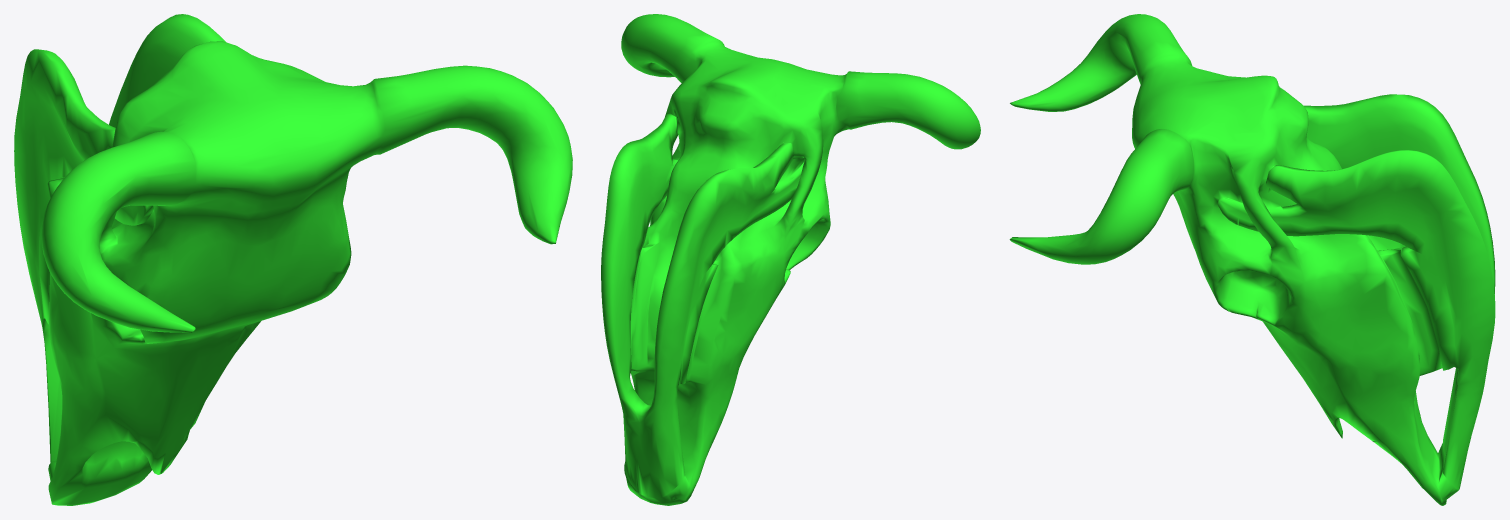
File: Cowskull.obj
3 views of the same model, side by side, from view 1: azimuth 30°, elevation 25°; view 2: azimuth 150°, elevation 25°; view 3: azimuth 270°, elevation 25° (orthographic). The views are drawn at different scales.
Parts seen in each view (by area): view 1: Cowskull; view 2: Cowskull; view 3: Cowskull.
Part boxes in pixels (x1=…): Cowskull: x1=14, y1=14, x2=572, y2=505; Cowskull: x1=601, y1=14, x2=980, y2=505; Cowskull: x1=1009, y1=14, x2=1495, y2=505.
Size of the model in its own units: 0.9481 by 0.9525 by 1.
